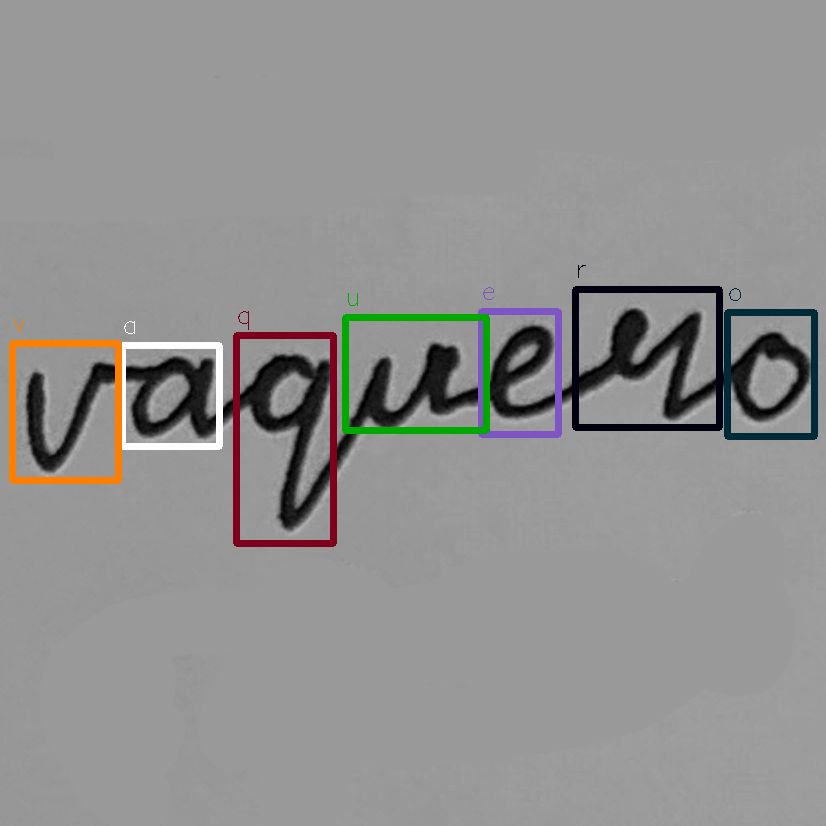a: (265, 377, 314, 429)
e: (444, 360, 490, 418)
o: (564, 364, 614, 417)
q: (322, 374, 376, 473)
r: (498, 352, 561, 420)
u: (381, 370, 435, 423)
v: (210, 379, 260, 444)
